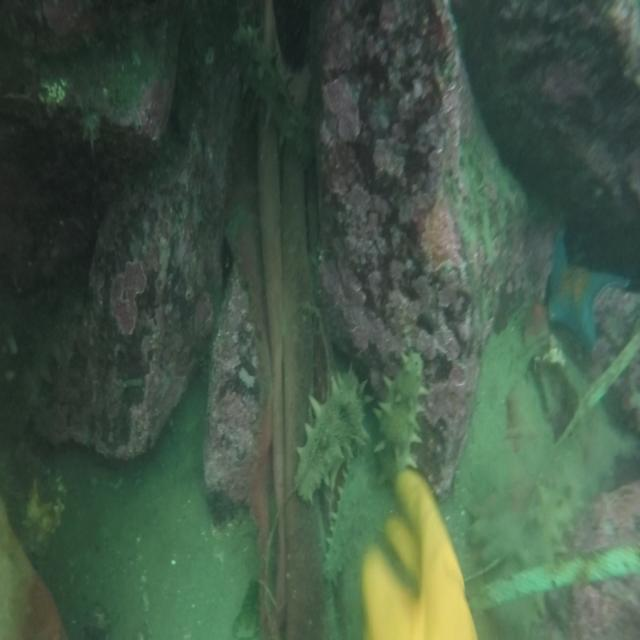holothurian: (228, 26, 318, 161), (463, 479, 579, 565), (297, 363, 365, 494), (375, 348, 422, 482), (322, 455, 370, 579)
starfish: (544, 229, 634, 341)
